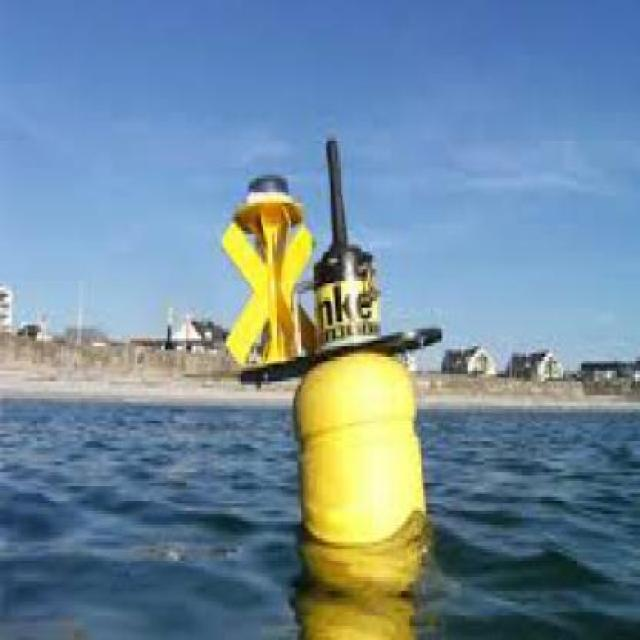buoy: (203, 120, 457, 589)
